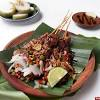sate: (7, 26, 93, 95)
